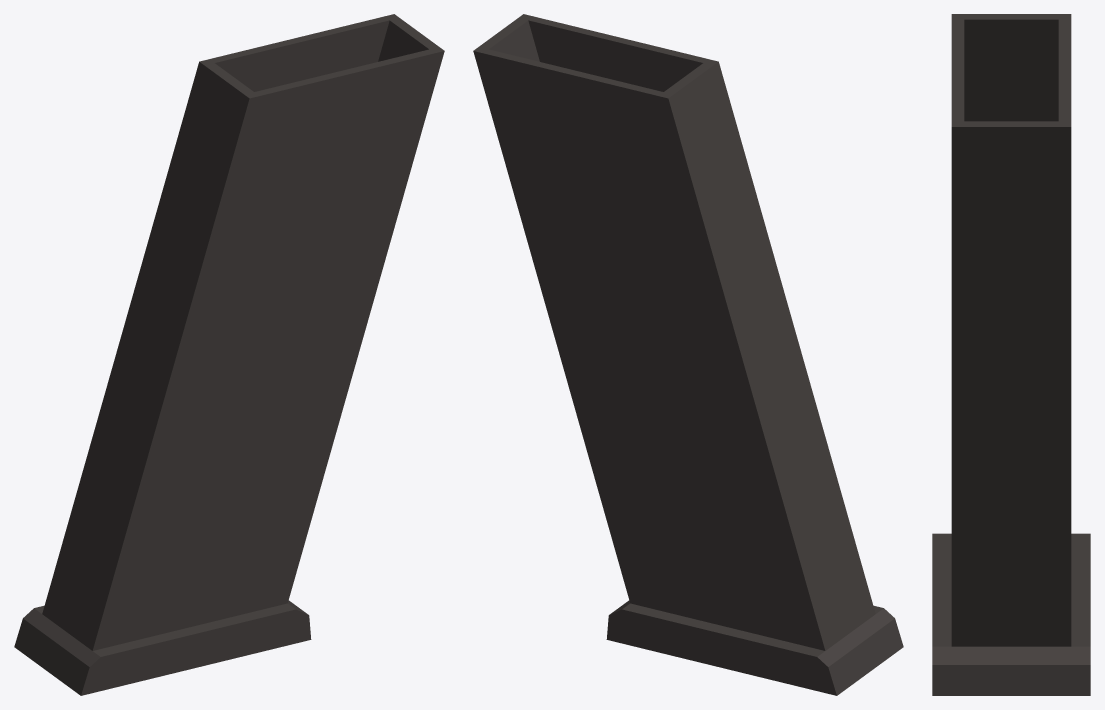
Rendered from Pistol4_03_4.fbx.
3 renders of one model, left to right at view 1: azimuth 30°, elevation 25°; view 2: azimuth 150°, elevation 25°; view 3: azimuth 270°, elevation 25°, orthographic. The views are drawn at different scales.
Parts seen in each view (by area): view 1: Pistol4_03_4; view 2: Pistol4_03_4; view 3: Pistol4_03_4.
Boxes of the visible parts, x1,y1,x2,y2 form: Pistol4_03_4: (14,14,444,695); Pistol4_03_4: (473,14,903,695); Pistol4_03_4: (932,14,1090,695).
Size of the model in its own units: 0.0778 by 0.1096 by 0.0242.
